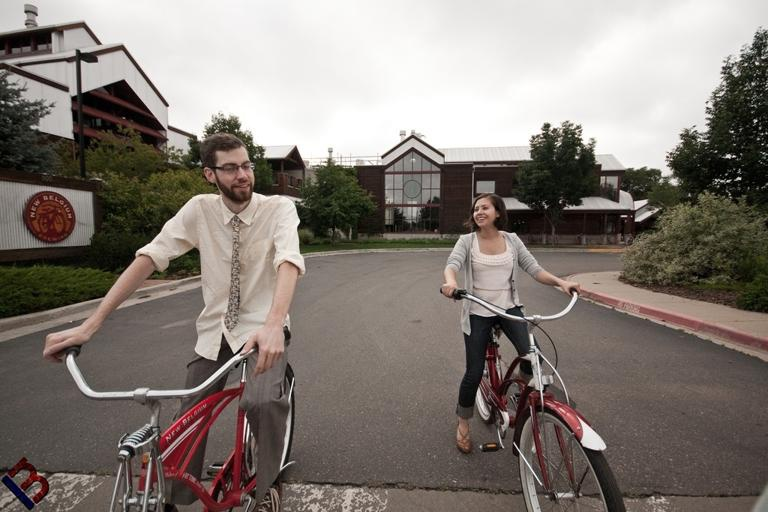non-vehicle: (53, 320, 298, 510), (437, 285, 626, 511)
